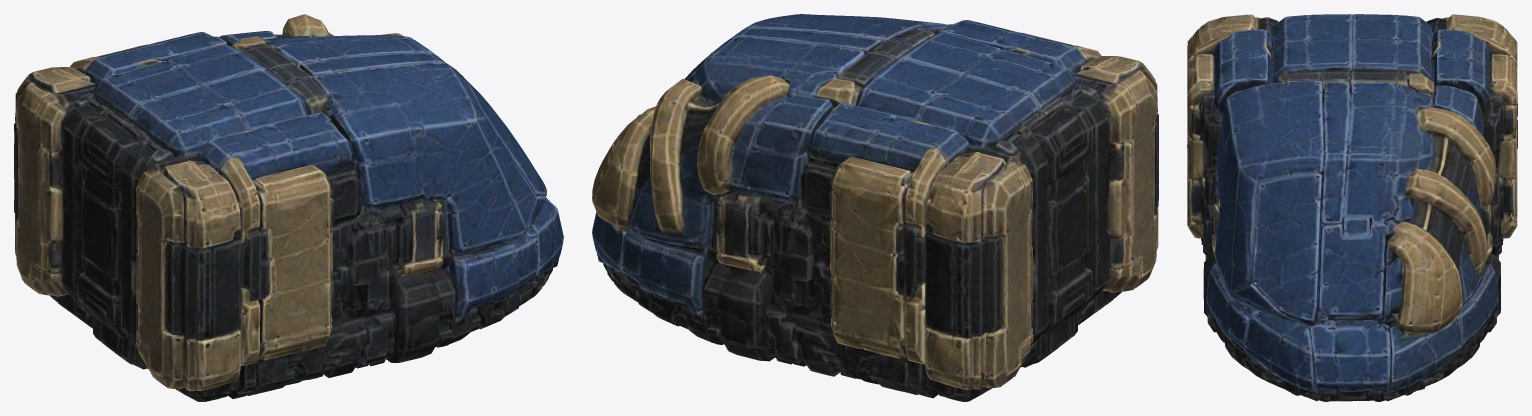
Rendered from arc-palisade-lean.glb.
3 renders of one model, left to right at view 1: azimuth 30°, elevation 25°; view 2: azimuth 150°, elevation 25°; view 3: azimuth 270°, elevation 25°, orthographic. The views are drawn at different scales.
Parts seen in each view (by area): view 1: chassis; view 2: chassis; view 3: chassis.
Part boxes in pixels (box(x1,y1,x2,y2)): chassis: box(14, 14, 563, 401); chassis: box(592, 14, 1158, 401); chassis: box(1187, 14, 1517, 401).
Size of the model in its own units: 0.9898 by 0.537 by 0.6948.
1 material, 1 textured.
